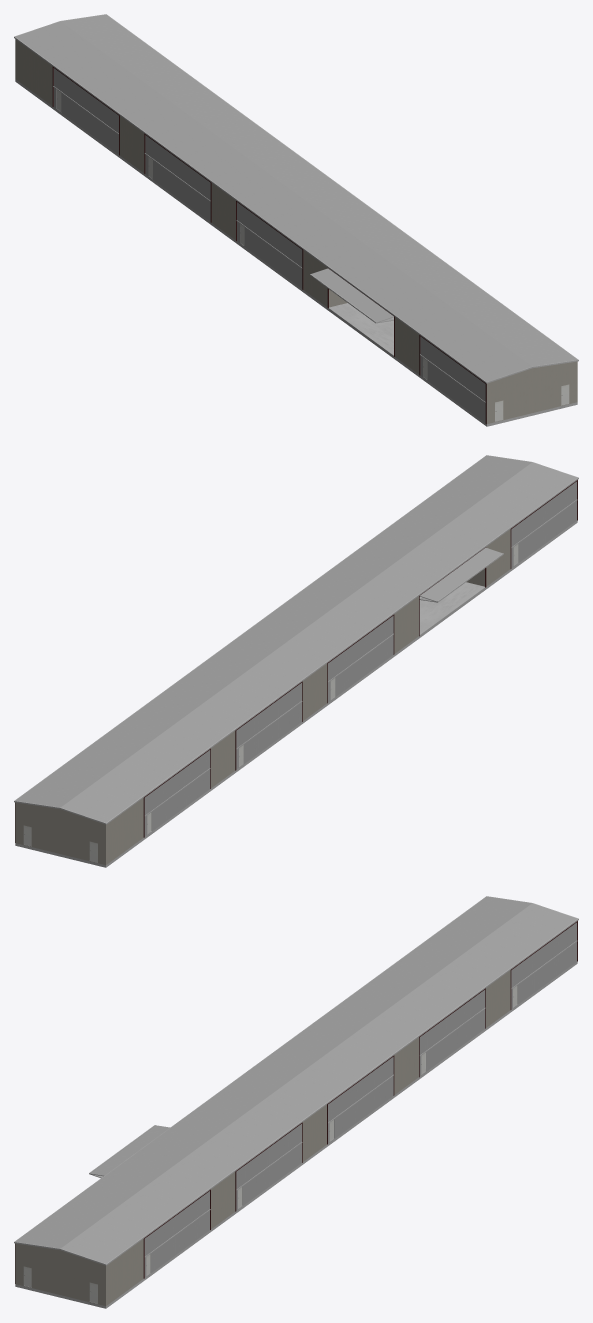
File: gen_open_hangar04-99x11x5-cbj_LOD00.gltf
3 renders of one model, top to bottom at view 1: azimuth 30°, elevation 25°; view 2: azimuth 150°, elevation 25°; view 3: azimuth 330°, elevation 25°, orthographic.
Visible parts, largest first — view 1: Cube.014; view 2: Cube.014; view 3: Cube.014.
Part boxes in pixels (<box>): Cube.014: <box>14,14,578,426</box>; Cube.014: <box>14,455,578,867</box>; Cube.014: <box>14,896,578,1308</box>.
Size of the model in its own units: 13.37 by 5.7 by 99.2.
